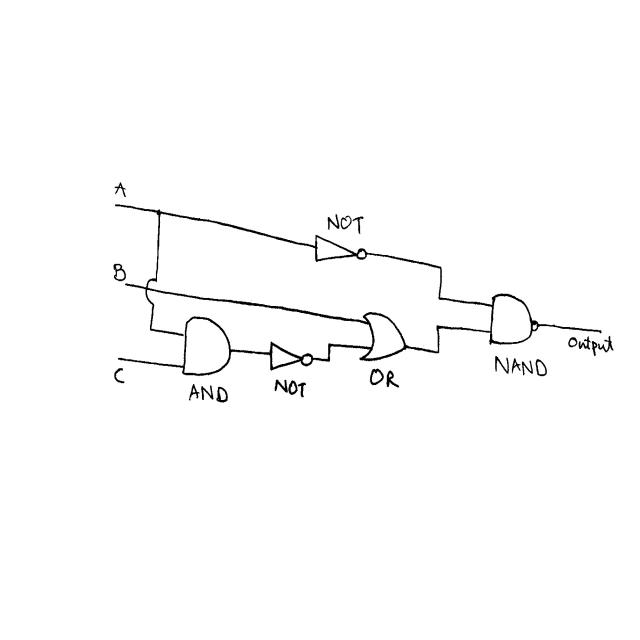crossover: (144, 274, 158, 306)
junction: (154, 207, 163, 219), (436, 262, 445, 273), (435, 293, 443, 303), (434, 347, 442, 356), (434, 323, 441, 331), (148, 325, 154, 334), (326, 356, 331, 364), (327, 342, 332, 348)
terminal: (594, 326, 606, 337), (121, 279, 129, 289), (115, 354, 123, 364), (113, 201, 121, 210)
text: (494, 354, 549, 378), (567, 333, 614, 357), (325, 211, 366, 235), (188, 382, 230, 405), (367, 365, 401, 391), (272, 376, 308, 399), (112, 262, 127, 282), (113, 179, 127, 199), (113, 365, 126, 384)
